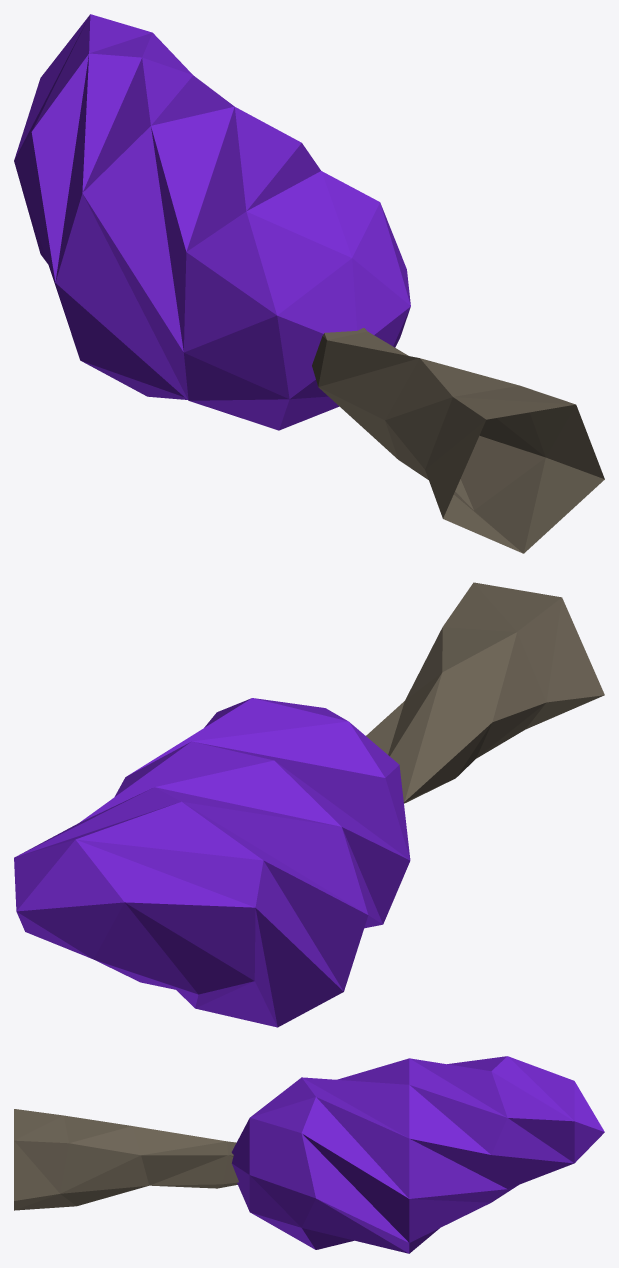
File: MysteryTree01.fbx
3 renders of one model, top to bottom at view 1: azimuth 30°, elevation 25°; view 2: azimuth 150°, elevation 25°; view 3: azimuth 270°, elevation 25°, orthographic. The views are drawn at different scales.
Visible parts, largest first — view 1: MysteryTree01; view 2: MysteryTree01; view 3: MysteryTree01.
Part boxes in pixels (box(x1,y1,x2,y2)): MysteryTree01: box(14, 14, 604, 553); MysteryTree01: box(14, 582, 604, 1027); MysteryTree01: box(14, 1056, 604, 1253).
Size of the model in its own units: 43711 by 42544 by 127981.
